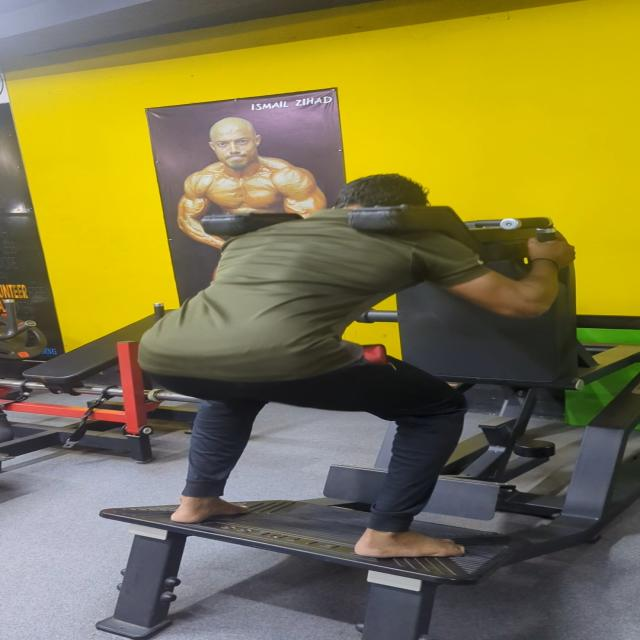Normal_SquatsWithBarbell: (99, 169, 640, 555)
